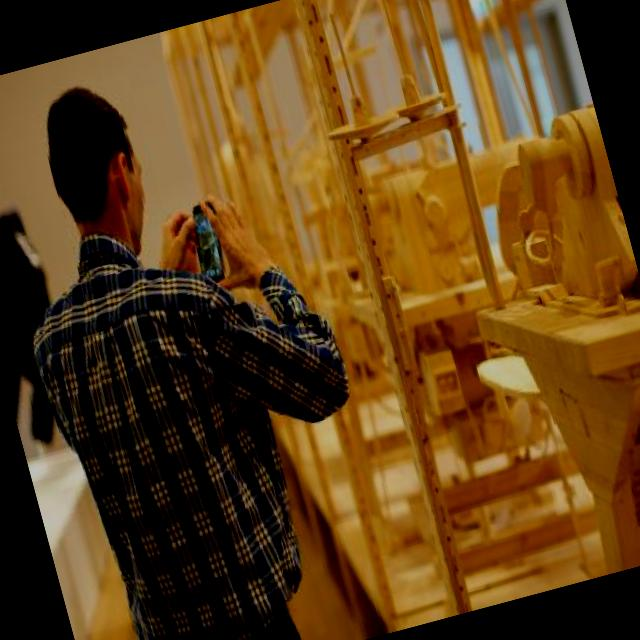Person: (0, 36, 415, 640)
